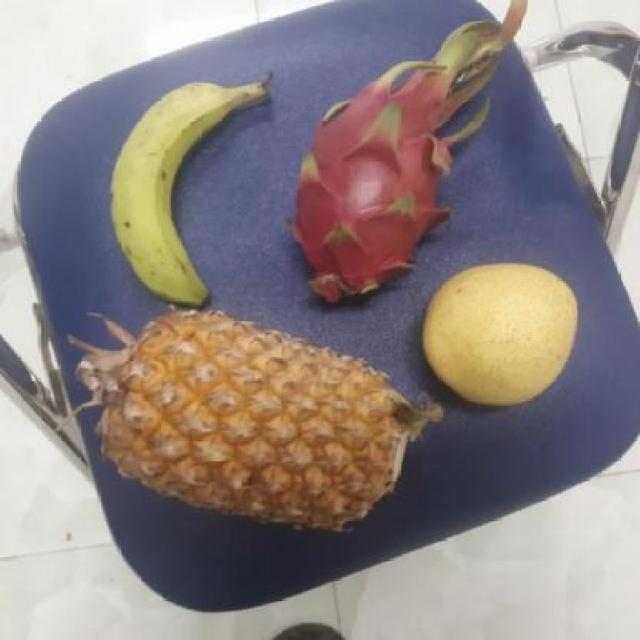banana: (104, 84, 261, 302)
dragon fruit: (284, 81, 464, 302)
pear: (423, 253, 580, 410)
pineapple: (74, 304, 418, 521)
